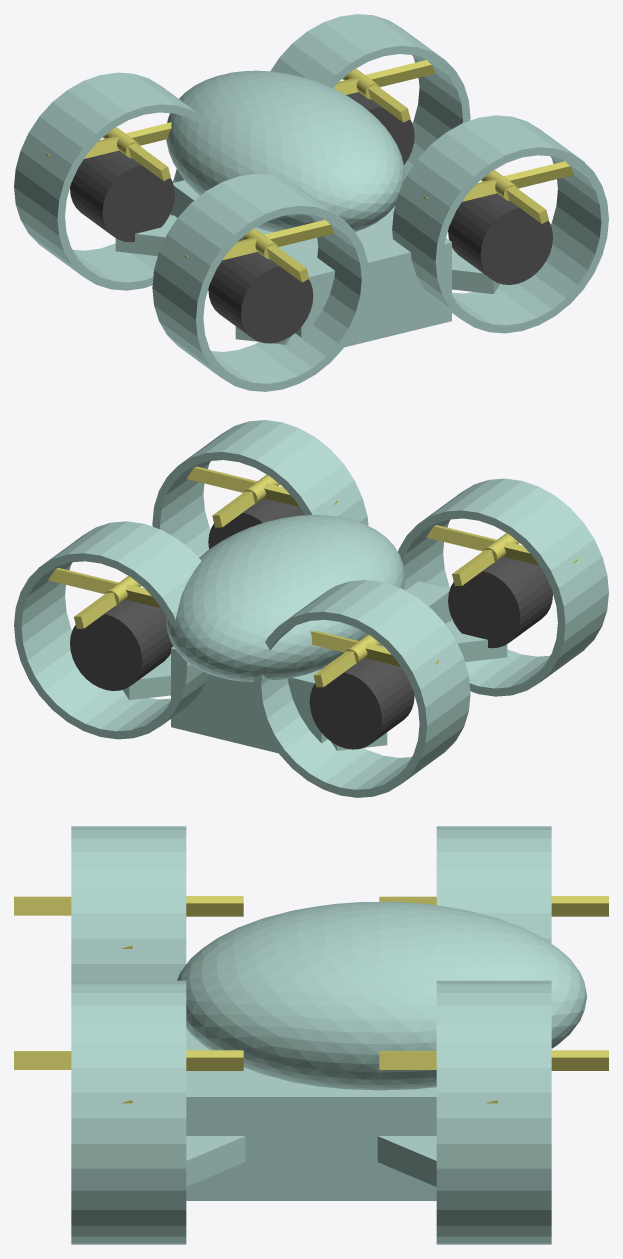
Rendered from Mobula 6 2024.glb.
3 renders of one model, top to bottom at view 1: azimuth 30°, elevation 25°; view 2: azimuth 150°, elevation 25°; view 3: azimuth 270°, elevation 25°, orthographic. The views are drawn at different scales.
Visible parts, largest first — view 1: canopy, duct_0, duct_2, duct_3, duct_1, frame_body, motor_2, motor_0, motor_3, prop_0, prop_2, prop_1 (+4 smaller); view 2: canopy, duct_3, duct_1, duct_2, duct_0, frame_body, motor_3, motor_1, motor_2, prop_0, prop_2, prop_1 (+4 smaller); view 3: canopy, duct_0, duct_1, frame_body, duct_2, duct_3, prop_2, prop_0, prop_1, arm_0, arm_1, prop_3.
Boxes of the visible parts, <box> form: canopy: <box>166,70,404,232</box>; duct_0: <box>392,115,608,333</box>; duct_2: <box>152,174,369,391</box>; duct_3: <box>14,72,201,290</box>; duct_1: <box>270,14,470,179</box>; frame_body: <box>171,180,451,347</box>; motor_2: <box>208,252,313,343</box>; motor_0: <box>448,193,552,284</box>; motor_3: <box>70,150,174,242</box>; prop_0: <box>422,161,574,223</box>; prop_2: <box>183,220,334,282</box>; prop_1: <box>333,60,435,122</box>; canopy: <box>166,515,404,681</box>; duct_3: <box>253,580,470,797</box>; duct_1: <box>14,521,208,739</box>; duct_2: <box>398,478,608,696</box>; duct_0: <box>152,420,368,557</box>; frame_body: <box>171,581,451,753</box>; motor_3: <box>309,658,414,749</box>; motor_1: <box>70,599,173,690</box>; motor_2: <box>448,557,552,648</box>; prop_0: <box>186,466,337,527</box>; prop_2: <box>426,525,577,586</box>; prop_1: <box>48,568,160,628</box>; canopy: <box>177,902,586,1090</box>; duct_0: <box>71,980,186,1244</box>; duct_1: <box>436,980,551,1244</box>; frame_body: <box>186,1028,436,1200</box>; duct_2: <box>71,826,186,980</box>; duct_3: <box>436,826,551,943</box>; prop_2: <box>14,896,243,948</box>; prop_0: <box>14,1050,243,1103</box>; prop_1: <box>379,1050,608,1103</box>; arm_0: <box>186,1136,245,1186</box>; arm_1: <box>377,1136,436,1186</box>; prop_3: <box>379,896,608,916</box>.
Size of the model in its own units: 0.1096 by 0.046 by 0.1036.
